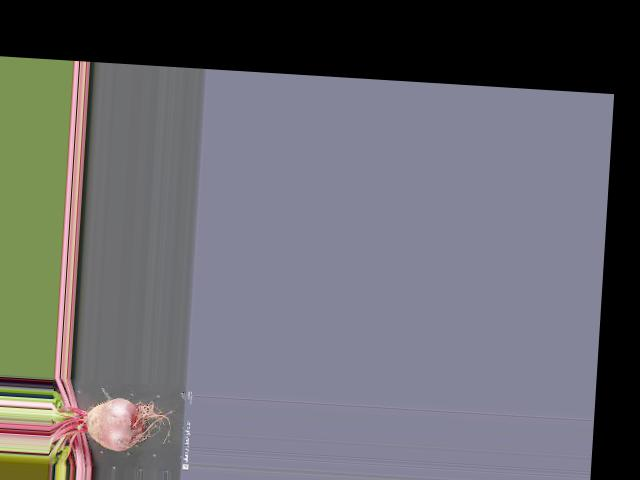beet: (48, 393, 177, 472)
